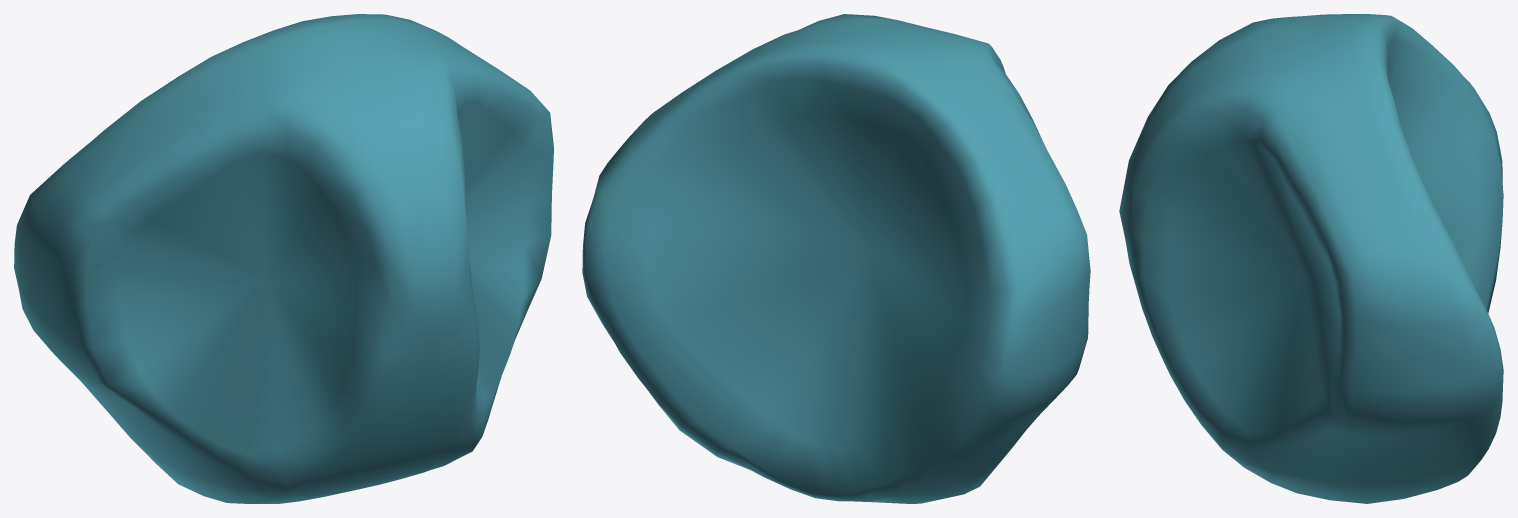
File: VIS_Alpha_Surface_009.dae
3 views of the same model, side by side, from view 1: azimuth 30°, elevation 25°; view 2: azimuth 150°, elevation 25°; view 3: azimuth 270°, elevation 25° (orthographic). The views are drawn at different scales.
Visible parts, largest first — view 1: VIS_Alpha_Surface_009; view 2: VIS_Alpha_Surface_009; view 3: VIS_Alpha_Surface_009.
Part boxes in pixels (x1=…): VIS_Alpha_Surface_009: x1=14, y1=14, x2=553, y2=503; VIS_Alpha_Surface_009: x1=582, y1=14, x2=1090, y2=503; VIS_Alpha_Surface_009: x1=1119, y1=14, x2=1503, y2=503.
Bounding box in the file's own units: 33.82 × 24.43 × 30.12.
